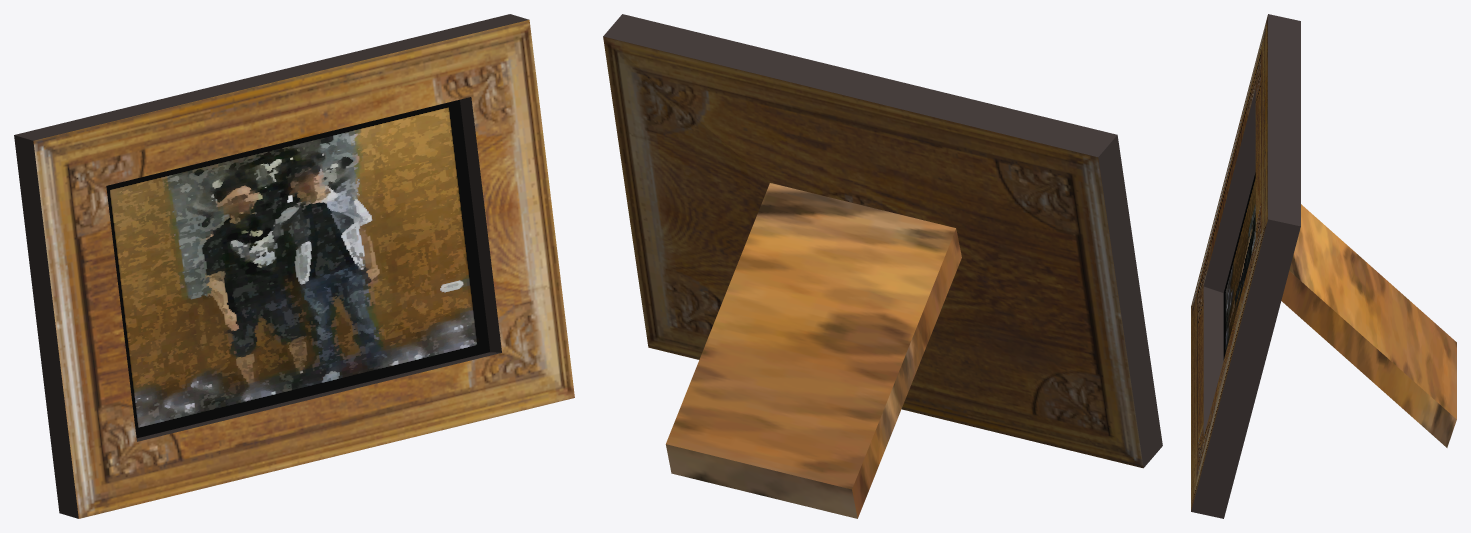
Rendered from Photo_Frame.fbx.
The picture shows the model from 3 angles, left to right: view 1: azimuth 30°, elevation 25°; view 2: azimuth 150°, elevation 25°; view 3: azimuth 270°, elevation 25°; orthographic projection. The views are drawn at different scales.
Parts seen in each view (by area): view 1: PictureFrame; view 2: PictureFrame; view 3: PictureFrame.
Boxes of the visible parts, x1,y1,x2,y2 form: PictureFrame: (14, 14, 574, 518); PictureFrame: (603, 14, 1162, 518); PictureFrame: (1191, 14, 1456, 518).
Bounding box in the file's own units: 25.93 × 17.64 × 14.19.
